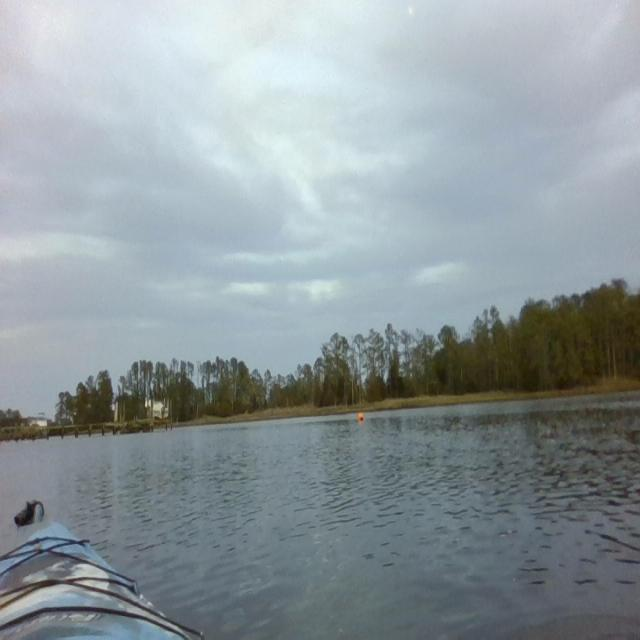Buoy: (358, 409, 364, 425)
